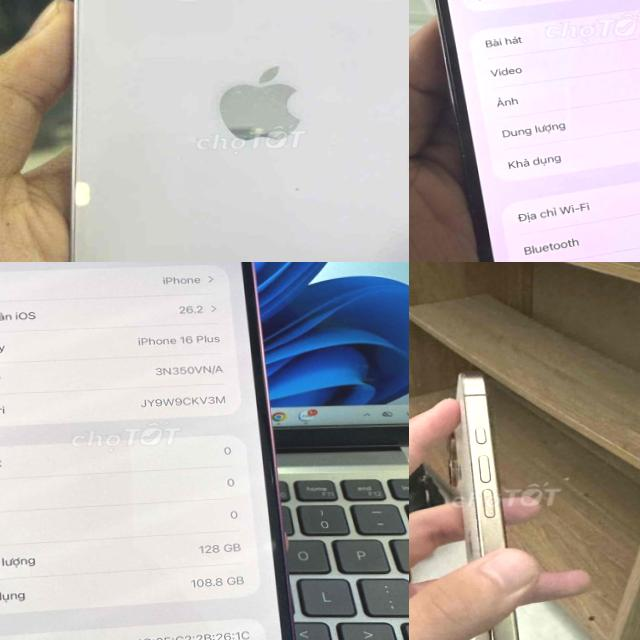gen_14: (56, 0, 409, 262), (409, 0, 640, 262)
gen_16: (0, 262, 307, 640), (431, 352, 559, 640)
